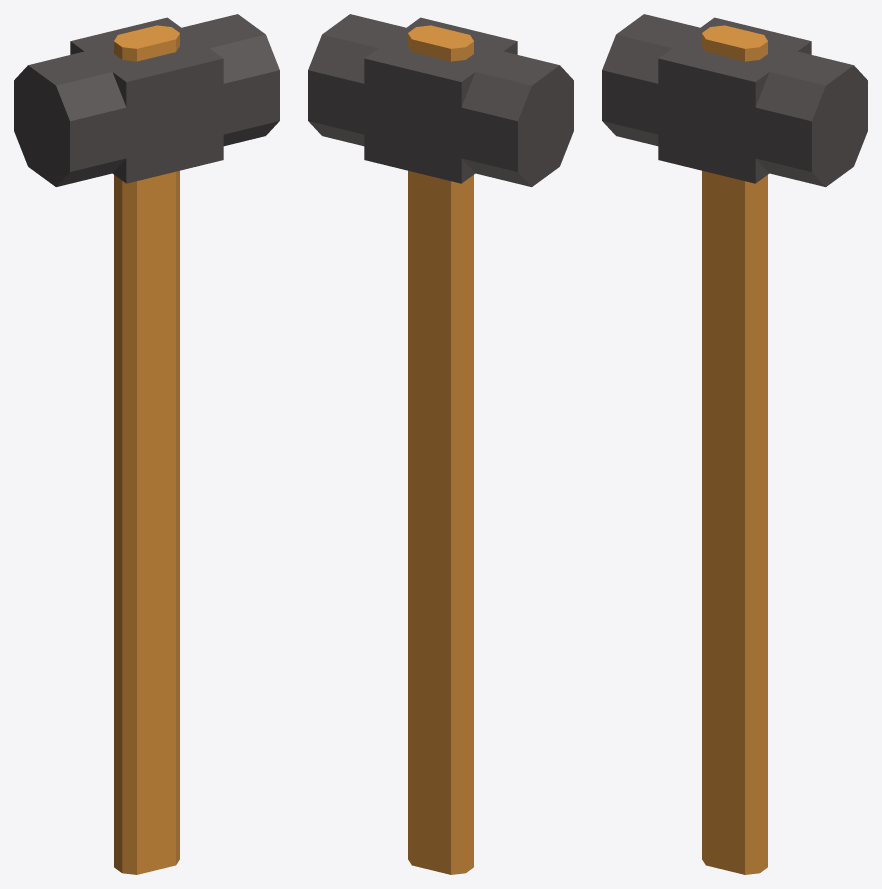
File: Sledgehammer.fbx
3 renders of one model, left to right at view 1: azimuth 30°, elevation 25°; view 2: azimuth 150°, elevation 25°; view 3: azimuth 330°, elevation 25°, orthographic.
Visible parts, largest first — view 1: Sledgemahher; view 2: Sledgemahher; view 3: Sledgemahher.
Boxes of the visible parts, x1=… form: Sledgemahher: x1=14, y1=14, x2=279, y2=874; Sledgemahher: x1=308, y1=14, x2=573, y2=874; Sledgemahher: x1=602, y1=14, x2=867, y2=874.
Bounding box in the file's own units: 473 × 1778 × 219.
